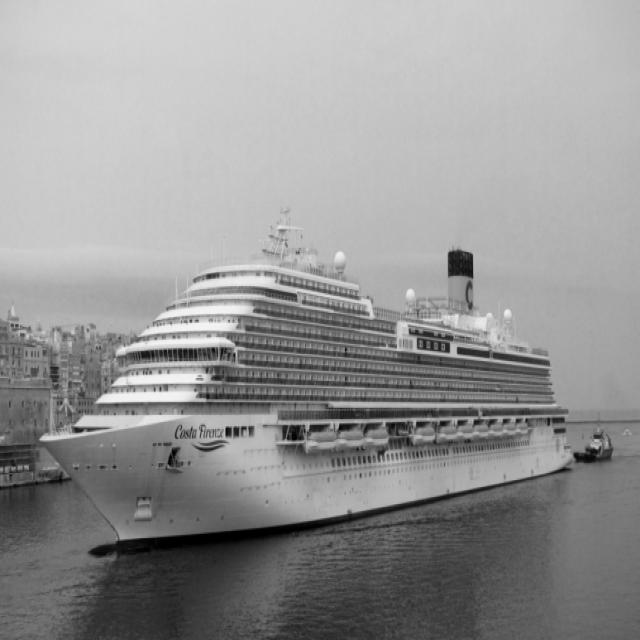cruises: (43, 199, 577, 549)
